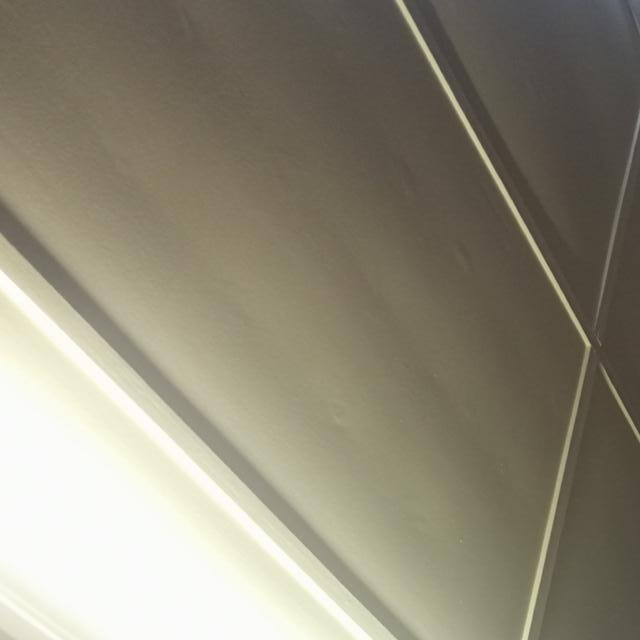fluorescent tube: (0, 233, 529, 640)
